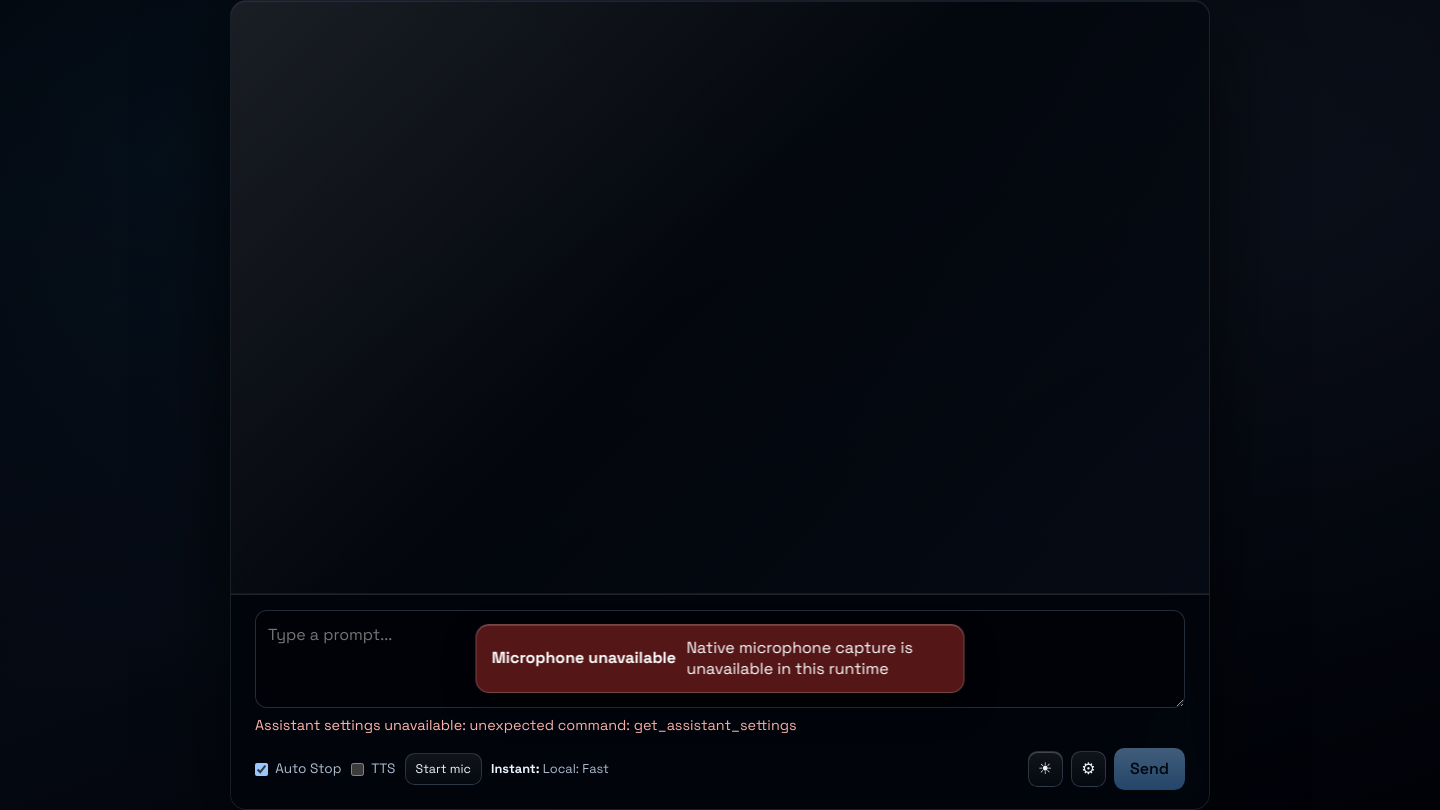
App › renders response profile dropdown from startup state
Click the button "⚙" at (1088, 769), box [1071,751,1106,787]
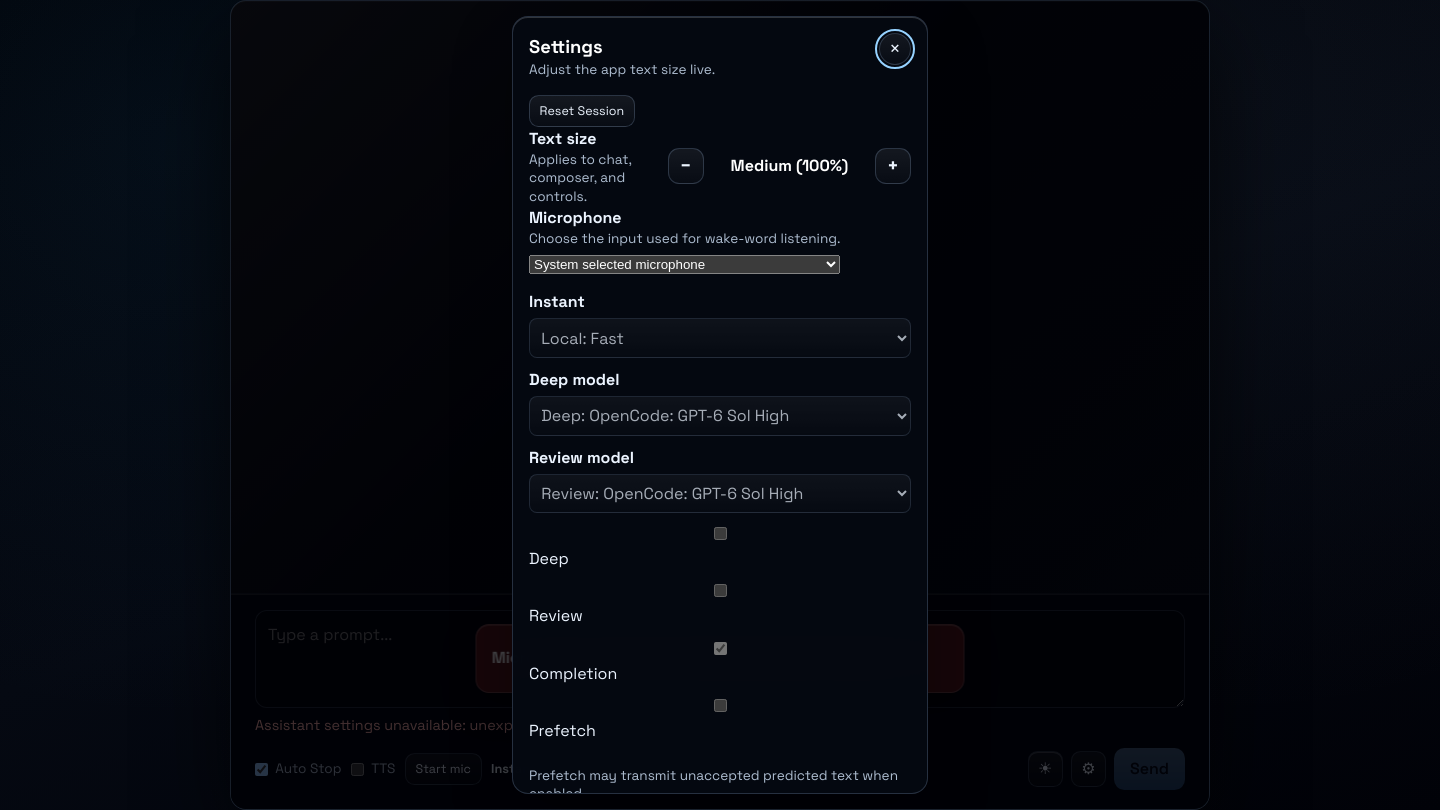
Now the dropdown with id "assistantInstantSelect" shows "Local: Fast", box [529,318,911,358]
